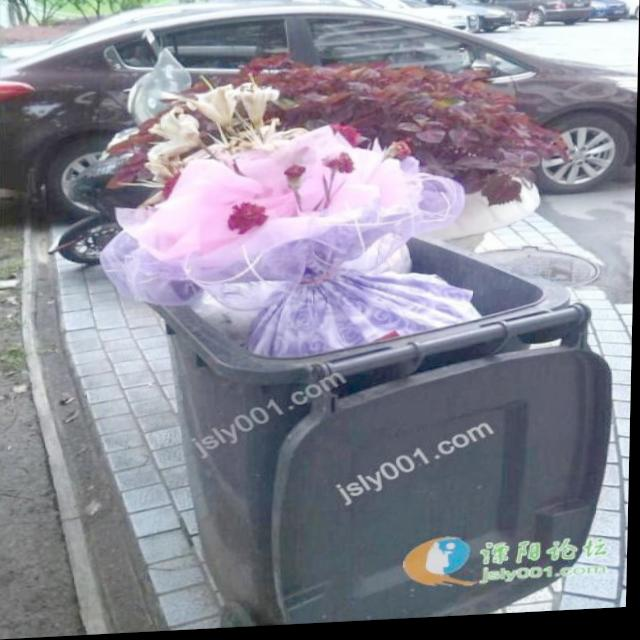overflow: (91, 59, 620, 635)
